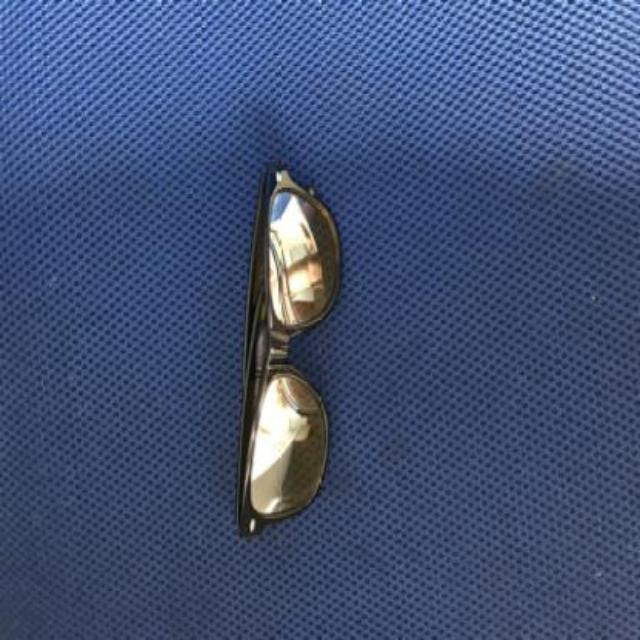glasses: (234, 160, 342, 540)
